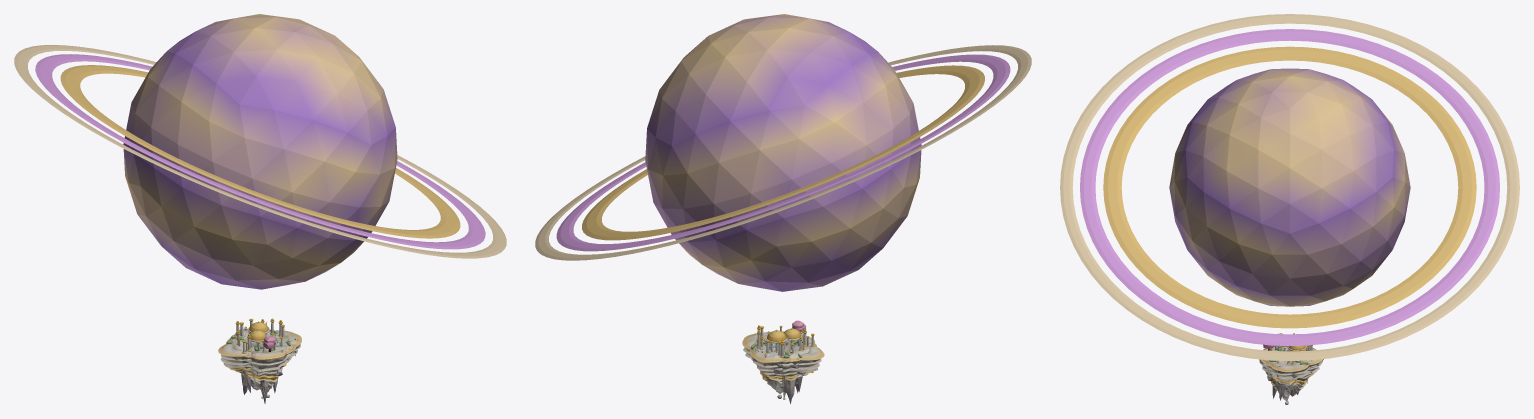
The model's file is isle-crown-CQKXdrLR.glb.
The picture shows the model from 3 angles, left to right: view 1: azimuth 30°, elevation 25°; view 2: azimuth 150°, elevation 25°; view 3: azimuth 270°, elevation 25°; orthographic projection. The views are drawn at different scales.
Parts seen in each view (by area): view 1: far, isle_2, isle_1, isle_0; view 2: far, isle_2, isle_1, isle_0; view 3: far, isle_2, isle_1.
Boxes of the visible parts, bbox=[...] form: far: bbox=[14, 14, 506, 289]; isle_2: bbox=[226, 321, 295, 403]; isle_1: bbox=[218, 319, 301, 388]; isle_0: bbox=[229, 318, 297, 369]; far: bbox=[535, 14, 1031, 291]; isle_2: bbox=[749, 329, 814, 404]; isle_1: bbox=[742, 320, 824, 383]; isle_0: bbox=[750, 325, 816, 385]; far: bbox=[1060, 14, 1519, 360]; isle_2: bbox=[1259, 333, 1323, 404]; isle_1: bbox=[1263, 333, 1309, 397].
Size of the model in its own units: 592 by 504 by 648.
